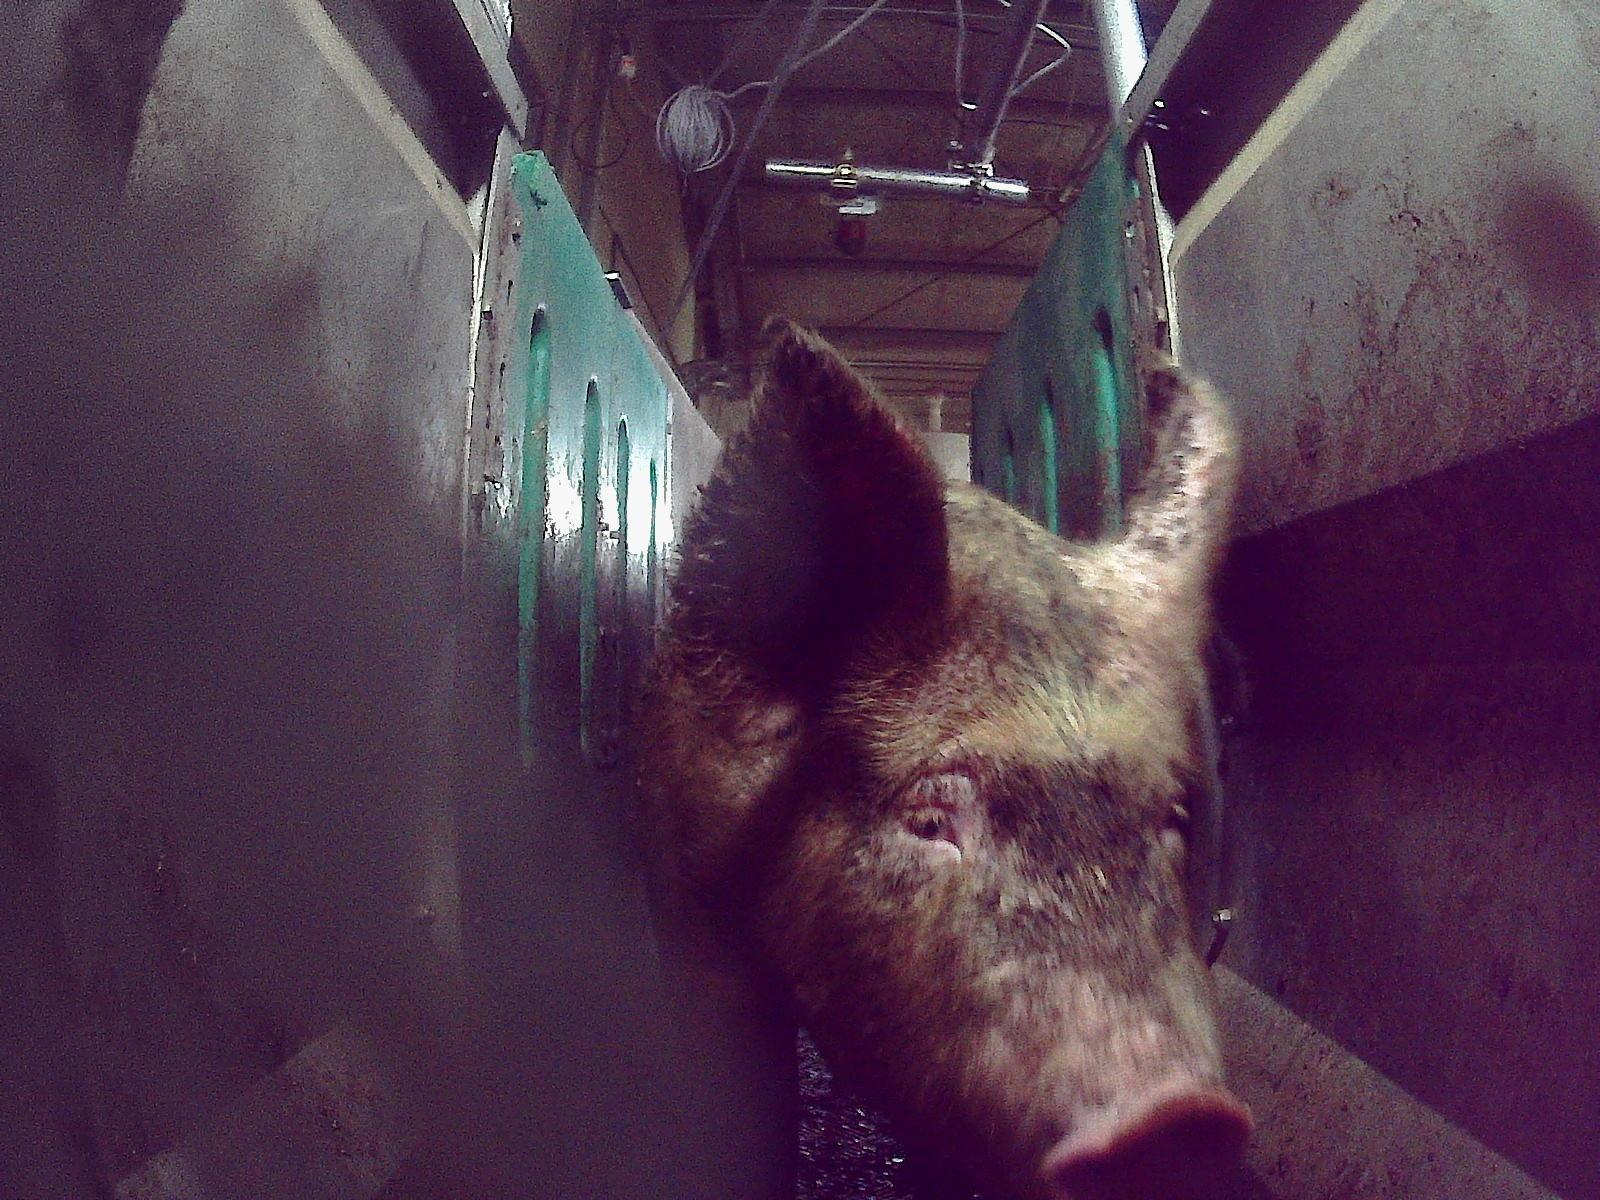Face: (757, 519, 1254, 1199)
